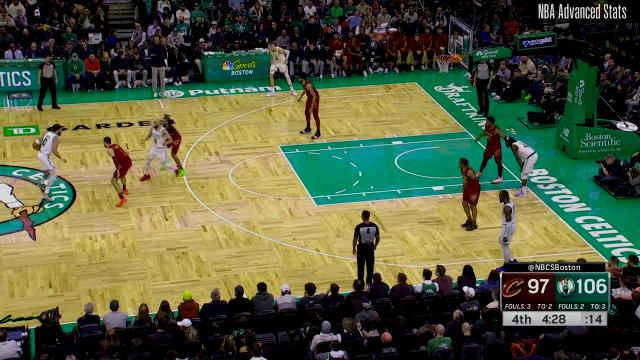3_dx: (590, 246, 600, 256)
3_sx: (418, 86, 429, 94)
b_sx: (408, 76, 419, 86)
free_adx: (312, 200, 322, 211)
free_asx: (274, 142, 286, 150)
free_bsx: (462, 126, 468, 134)
mid_sx: (154, 93, 164, 103)
referee: (352, 209, 380, 285), (472, 55, 493, 118), (38, 56, 58, 112)
team: (136, 120, 180, 180), (36, 124, 68, 202), (502, 135, 538, 195), (494, 189, 520, 267), (265, 40, 299, 96)
team1: (101, 138, 132, 209), (476, 116, 506, 186), (296, 70, 322, 138), (456, 158, 480, 229), (162, 114, 186, 178)
timer: (538, 309, 570, 327)
